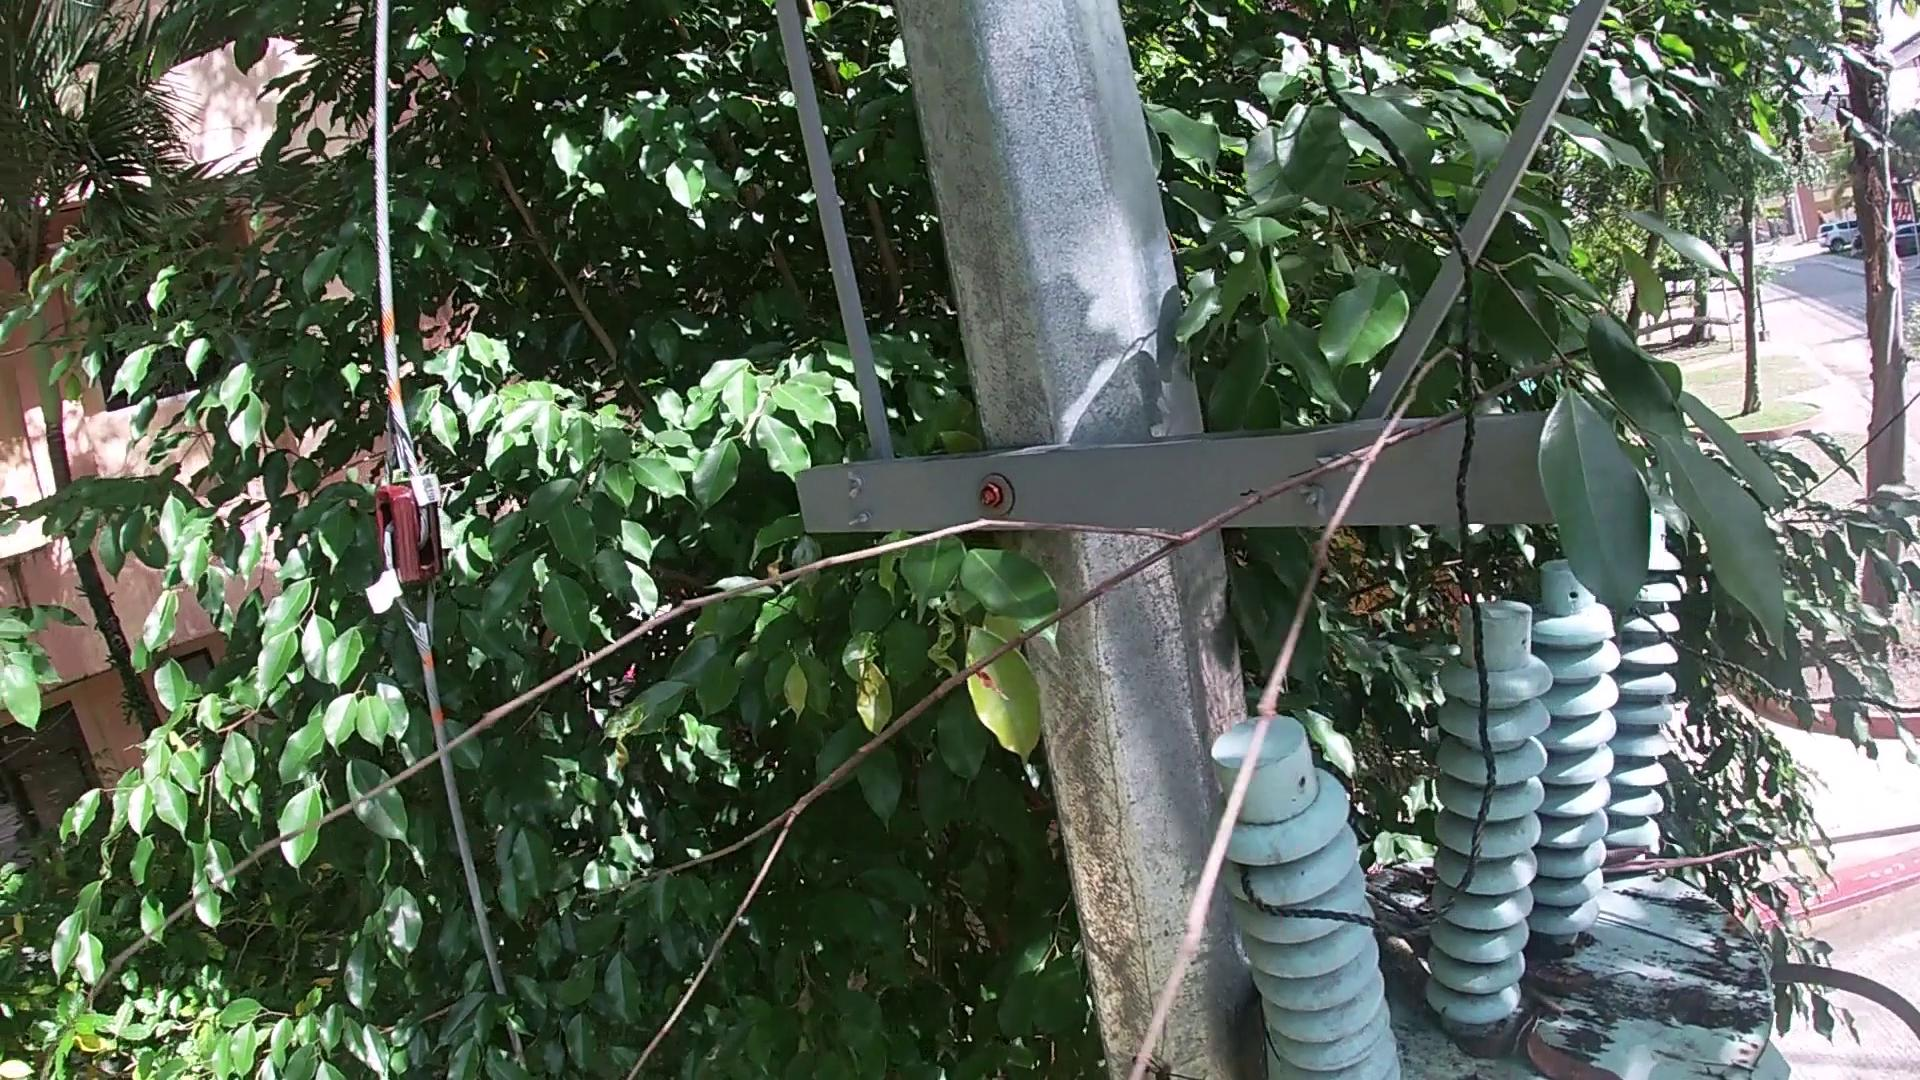leaf: (1456, 1019, 1528, 1072)
mahogany fruit: (1534, 1013, 1614, 1080), (1516, 956, 1604, 994)
tree branch: (70, 326, 1629, 1062), (1600, 909, 1750, 978), (1364, 914, 1436, 998), (1598, 839, 1763, 876), (1362, 884, 1432, 930), (1555, 965, 1662, 982)
